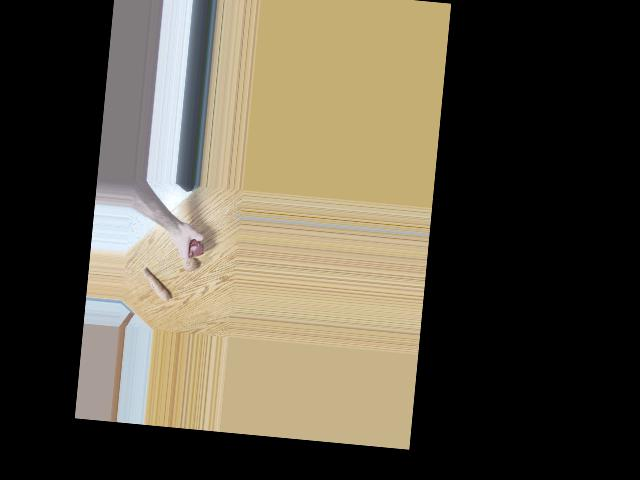onion: (178, 253, 197, 271)
